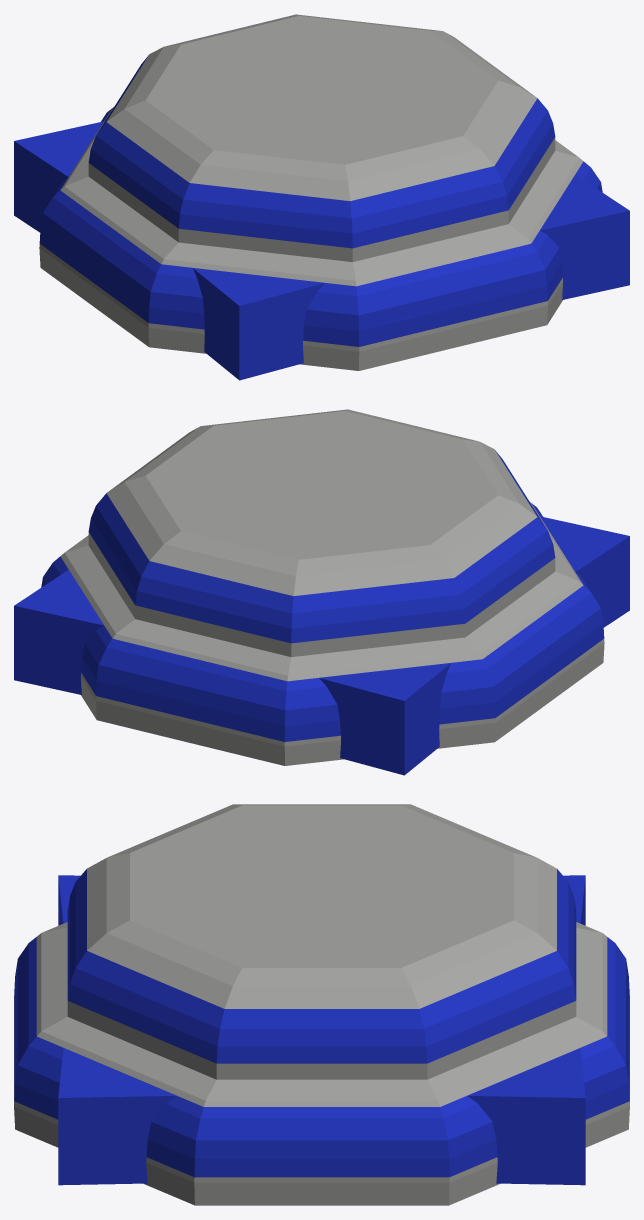
The model's file is base_upgraded_water.fbx.
3 renders of one model, top to bottom at view 1: azimuth 30°, elevation 25°; view 2: azimuth 150°, elevation 25°; view 3: azimuth 270°, elevation 25°, orthographic. The views are drawn at different scales.
Parts seen in each view (by area): view 1: Circle; view 2: Circle; view 3: Circle.
Boxes of the visible parts, box(x1,y1,x2,y2) form: Circle: box(14, 14, 629, 380); Circle: box(14, 409, 629, 775); Circle: box(14, 804, 629, 1205).
Size of the model in its own units: 185 by 62.87 by 185.
Materials: 1 (1 with a texture image).
